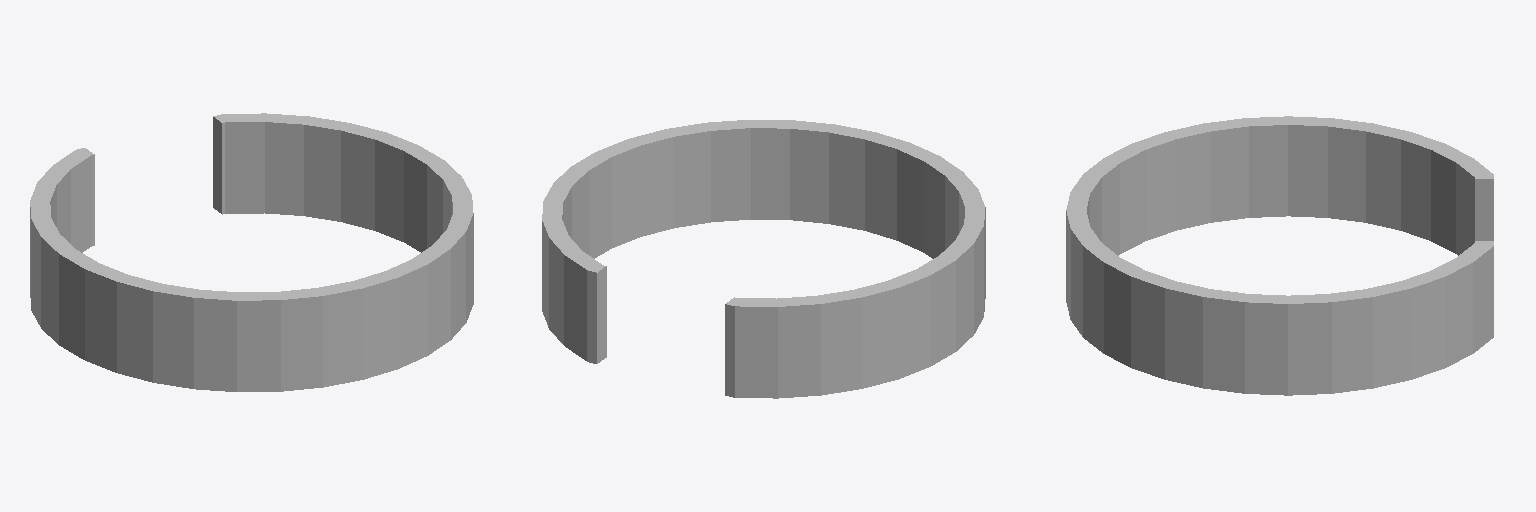
Rendered from main_room.obj.
3 renders of one model, left to right at view 1: azimuth 30°, elevation 25°; view 2: azimuth 150°, elevation 25°; view 3: azimuth 270°, elevation 25°, orthographic.
Parts seen in each view (by area): view 1: Cylinder_Cylinder.005; view 2: Cylinder_Cylinder.005; view 3: Cylinder_Cylinder.005.
Boxes of the visible parts, <box> form: Cylinder_Cylinder.005: <box>30,113,473,391</box>; Cylinder_Cylinder.005: <box>542,120,985,398</box>; Cylinder_Cylinder.005: <box>1066,116,1493,395</box>.
Bounding box in the file's own units: 22 × 5 × 21.16.